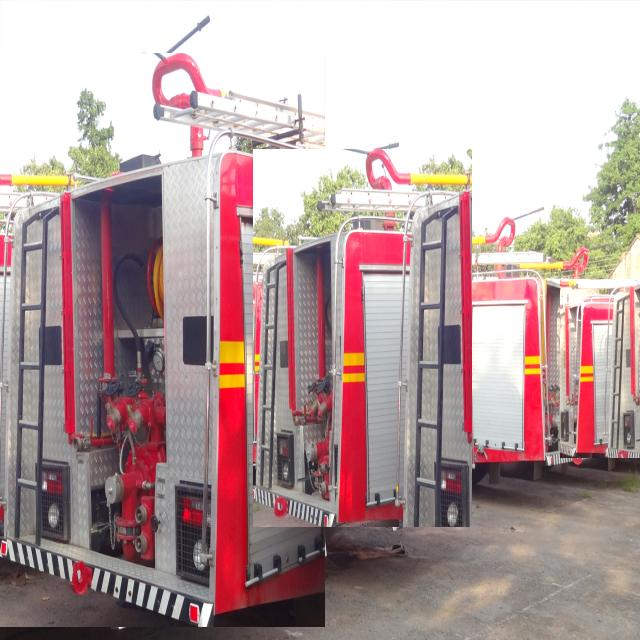emergency: (0, 53, 325, 627), (253, 150, 471, 527), (436, 217, 594, 484), (560, 279, 640, 458)
